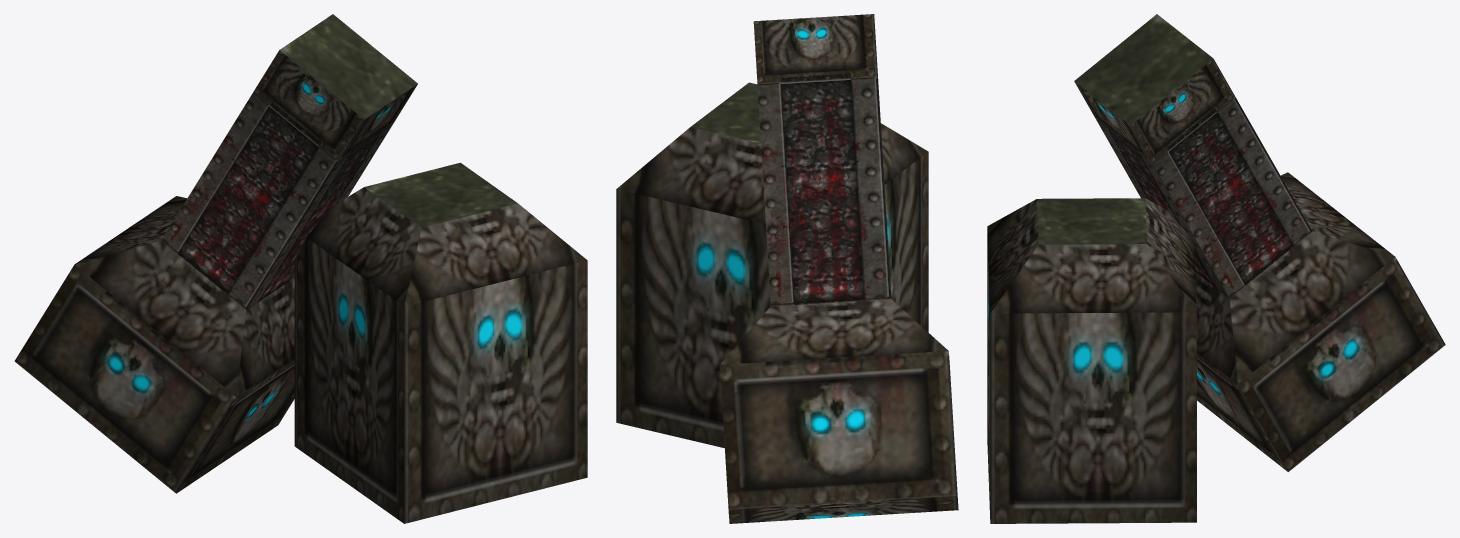
Rendered from column-destr_08.FBX.
3 views of the same model, side by side, from view 1: azimuth 30°, elevation 25°; view 2: azimuth 150°, elevation 25°; view 3: azimuth 270°, elevation 25° (orthographic). The views are drawn at different scales.
Parts seen in each view (by area): view 1: column-destr_08; view 2: column-destr_08; view 3: column-destr_08.
Boxes of the visible parts, box(x1,y1,x2,y2) form: column-destr_08: box(14, 14, 587, 523); column-destr_08: box(616, 14, 958, 523); column-destr_08: box(987, 14, 1445, 523).
Size of the model in its own units: 1.43 by 1.54 by 1.5.
